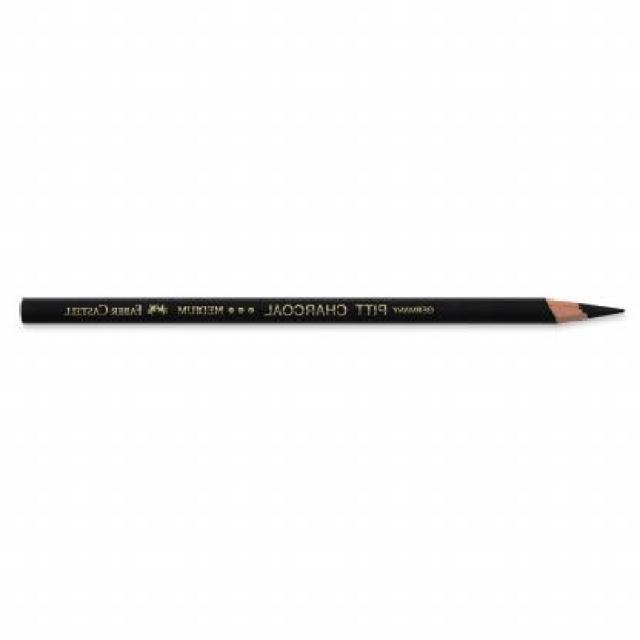pencil: (532, 290, 632, 333)
